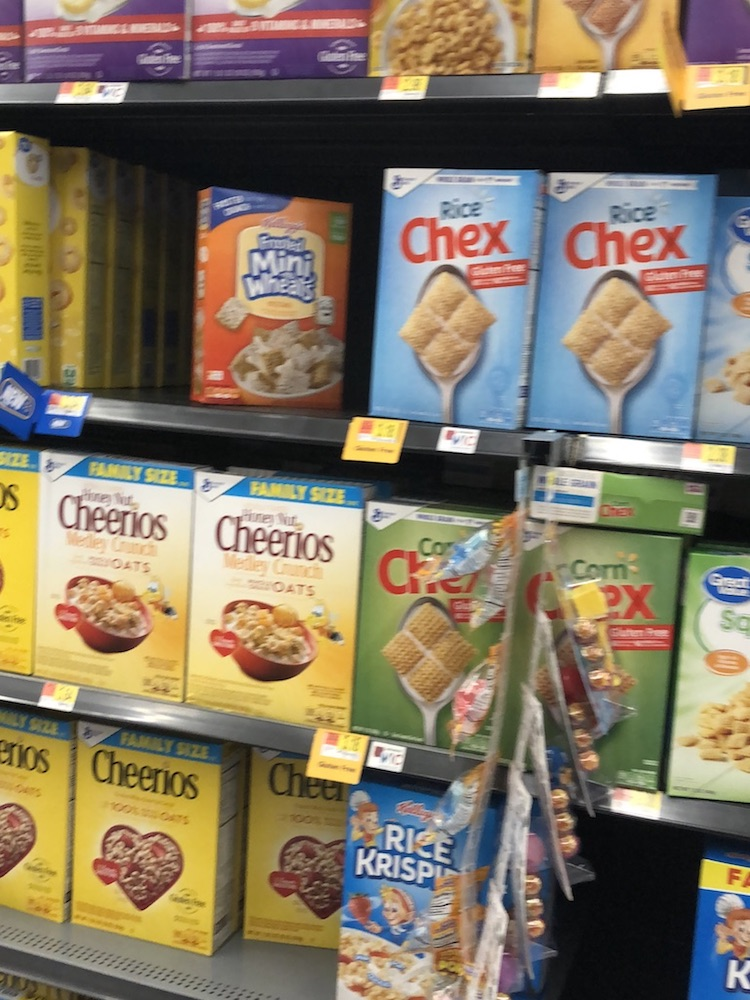Frosted Mini Original -9295869: (195, 190, 350, 405)
